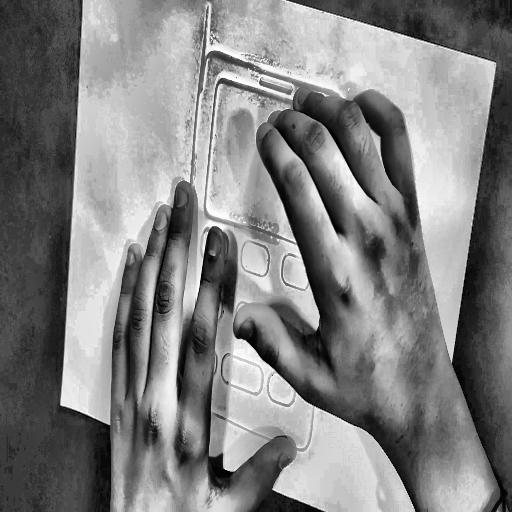bottom_left: (58, 398, 63, 408)
mobile: (164, 0, 367, 464)
top_right: (493, 57, 500, 70)
